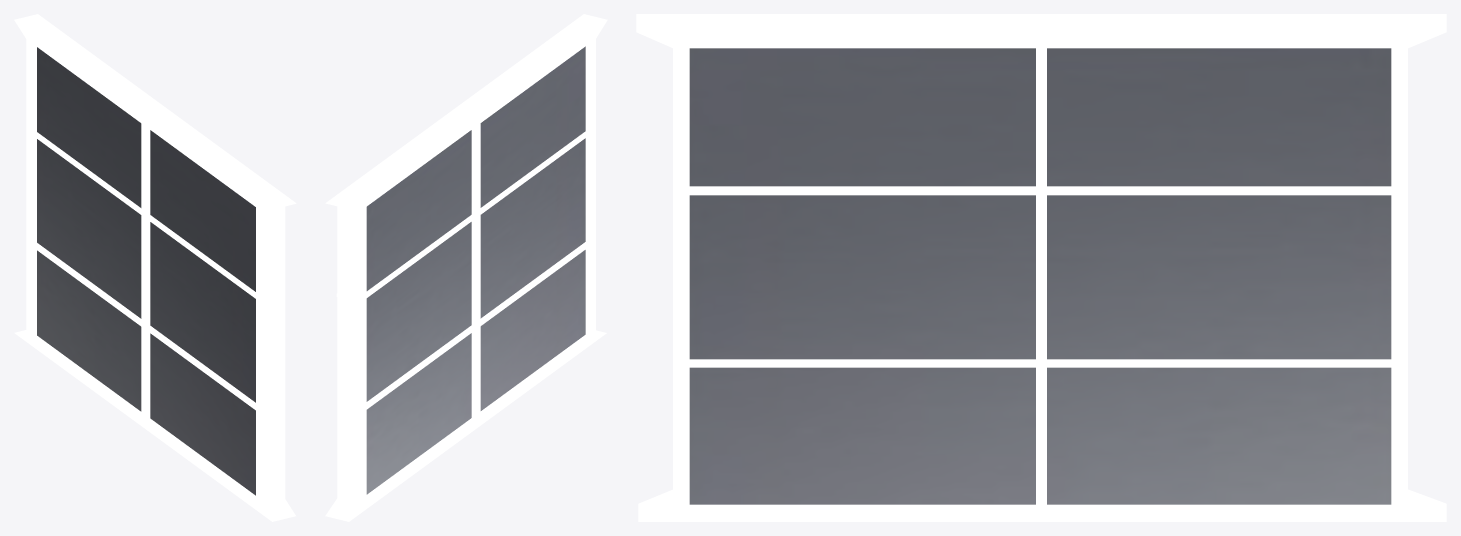
Rendered from Litewindow23.b578711f.gltf.
3 views of the same model, side by side, from view 1: azimuth 30°, elevation 25°; view 2: azimuth 150°, elevation 25°; view 3: azimuth 270°, elevation 25° (orthographic). The views are drawn at different scales.
Parts seen in each view (by area): view 1: Plane.001, Plane, Cube.001, Cube.003, Cube.002; view 2: Plane.001, Plane, Cube.001, Cube.003, Cube.002; view 3: Plane.001, Plane, Cube.002, Cube.003, Cube.001.
Part boxes in pixels (<box>): Plane.001: <box>37,47,255,495</box>; Plane: <box>14,14,296,521</box>; Cube.001: <box>141,118,150,423</box>; Cube.003: <box>32,242,255,410</box>; Cube.002: <box>33,132,255,298</box>; Plane.001: <box>366,46,585,494</box>; Plane: <box>325,14,607,521</box>; Cube.001: <box>471,118,480,423</box>; Cube.003: <box>366,242,590,409</box>; Cube.002: <box>336,131,589,297</box>; Plane.001: <box>689,48,1391,504</box>; Plane: <box>636,14,1446,521</box>; Cube.002: <box>676,186,1406,195</box>; Cube.003: <box>676,359,1406,367</box>; Cube.001: <box>1036,39,1046,516</box>.
Bounding box in the file's own units: 0.18 × 2 × 3.
Materials: 5 (1 with a texture image).
